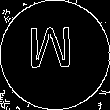M_S: (32, 29, 78, 81)
